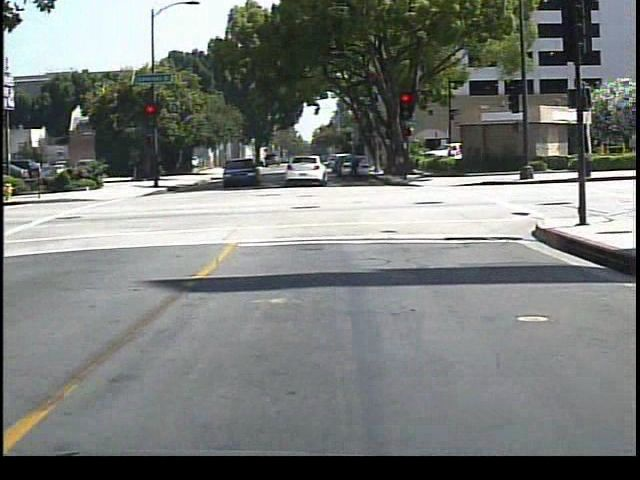person: (342, 145, 363, 187)
